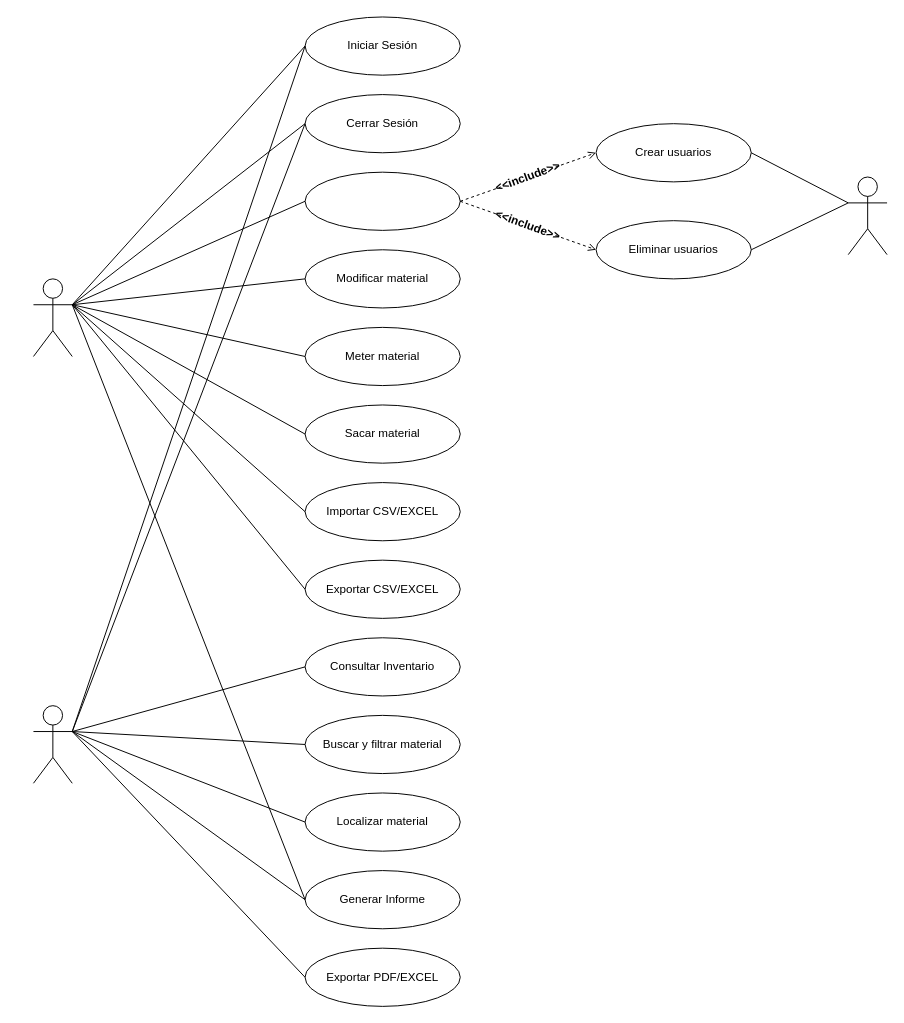
Image size: 904x1023. Some labels were removed from this diagram. Each missing label, with the centre of its shape:
Administrador: (x=52, y=317)
BD: (x=867, y=215)
Gestionar usuarios: (x=382, y=200)
Profesor: (x=52, y=744)
